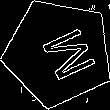M_SW: (26, 21, 91, 84)
